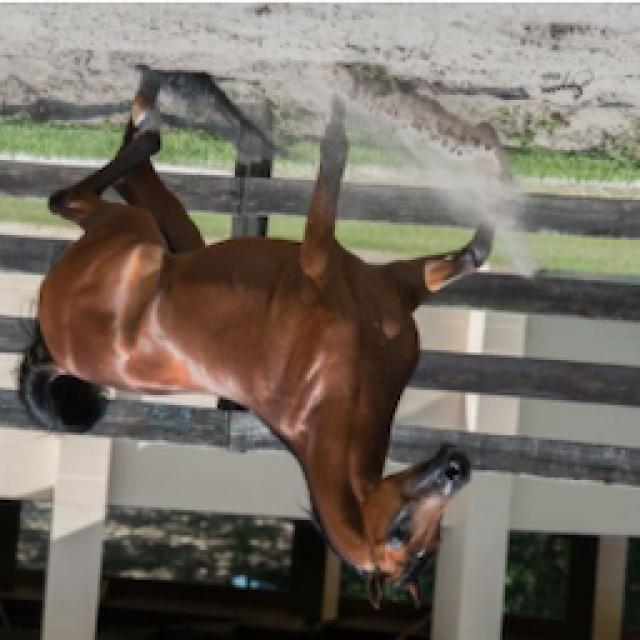Horse: (7, 65, 515, 613)
